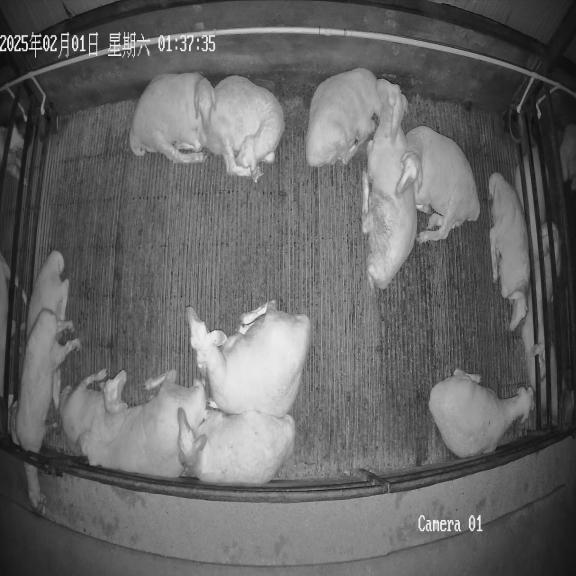eating: (10, 308, 80, 453), (25, 463, 44, 513)
lying: (186, 300, 311, 418), (79, 370, 207, 478), (306, 68, 408, 167), (361, 111, 417, 289), (396, 126, 480, 244), (429, 368, 533, 458), (203, 75, 284, 182), (179, 411, 295, 484), (129, 73, 214, 163), (488, 172, 530, 331), (59, 370, 128, 445), (26, 250, 69, 333)
